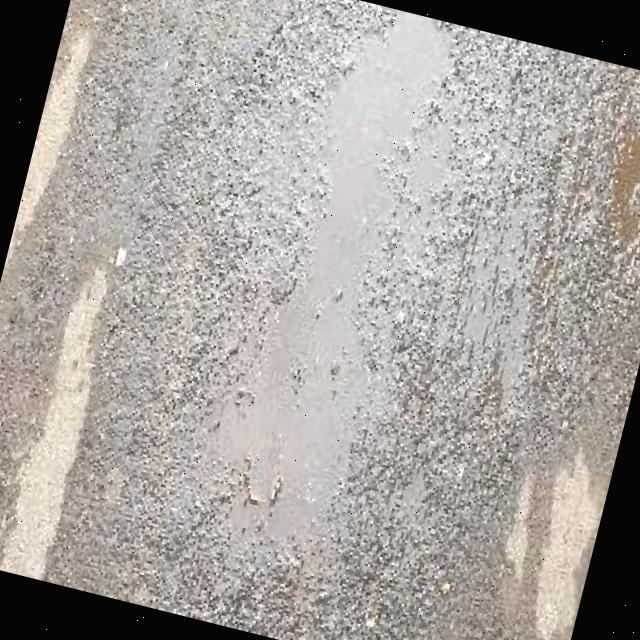stagnation: (186, 0, 493, 583)
